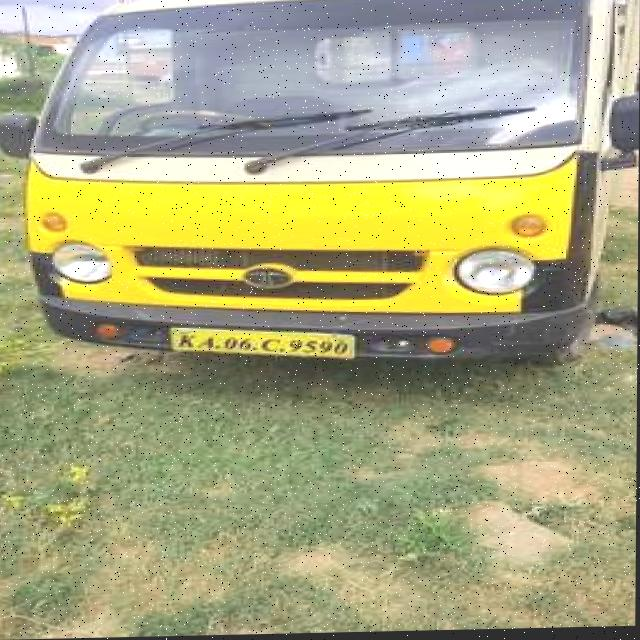plate: (165, 322, 361, 368)
